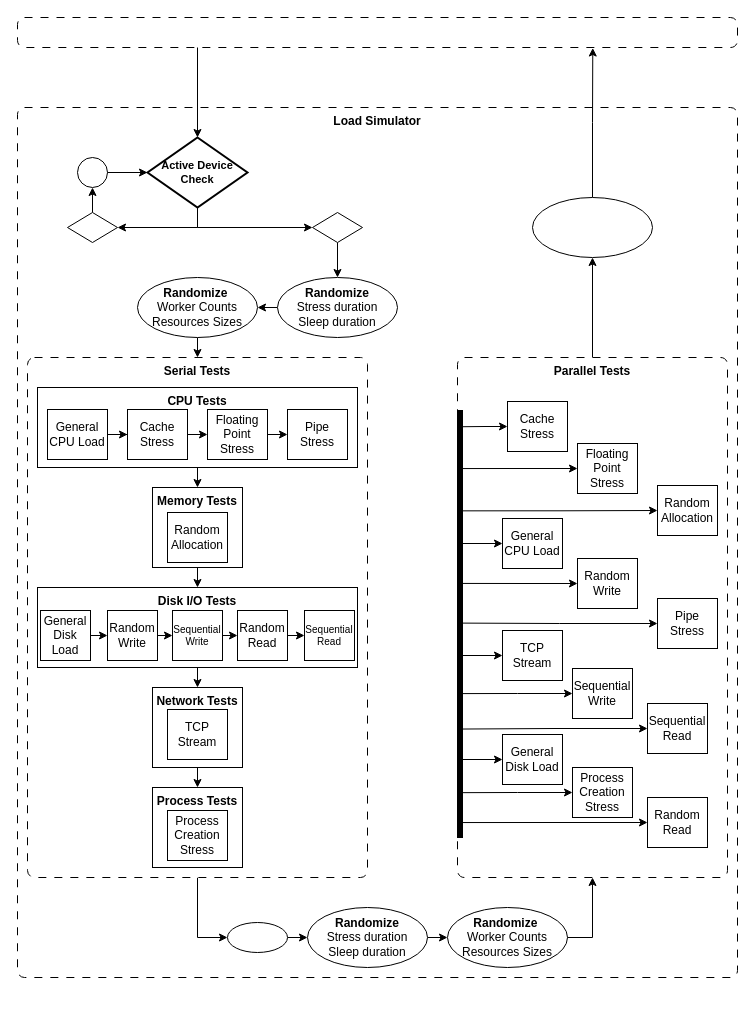
This 755x1015 diagram has some shape labels left out. Here are the shapes that lost their labels. From the top down, the centre of each, then its label:
At point (377, 32): "Load Coordinator".
At point (92, 172): "Wait".
At point (92, 227): "False".
At point (337, 227): "True".
At point (592, 227): "Set Next Device".
At point (257, 937): "Sleep".
